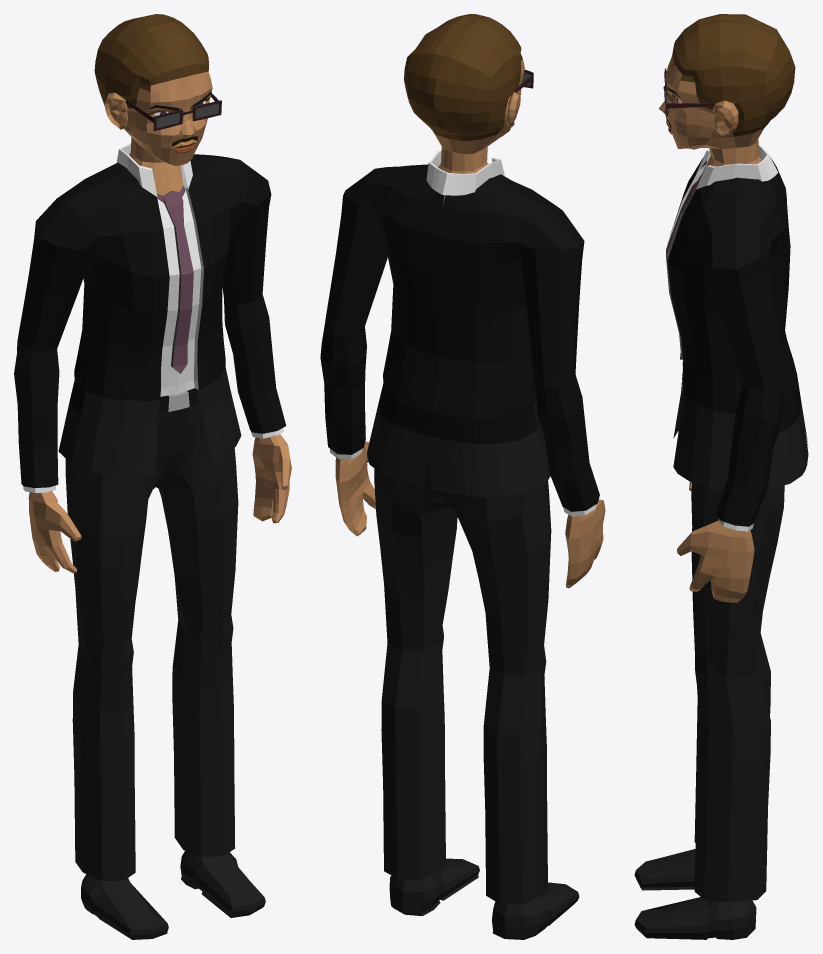
File: TeacherMale_B_Stand.fbx
The picture shows the model from 3 angles, left to right: view 1: azimuth 30°, elevation 25°; view 2: azimuth 150°, elevation 25°; view 3: azimuth 270°, elevation 25°; orthographic projection. The views are drawn at different scales.
Visible parts, largest first — view 1: TeacherMale_B_Stand; view 2: TeacherMale_B_Stand; view 3: TeacherMale_B_Stand.
Boxes of the visible parts, <box> form: TeacherMale_B_Stand: <box>14,14,291,939</box>; TeacherMale_B_Stand: <box>320,14,605,939</box>; TeacherMale_B_Stand: <box>634,14,808,939</box>.
Bounding box in the file's own units: 0.2953 × 0.9445 × 0.1679.
